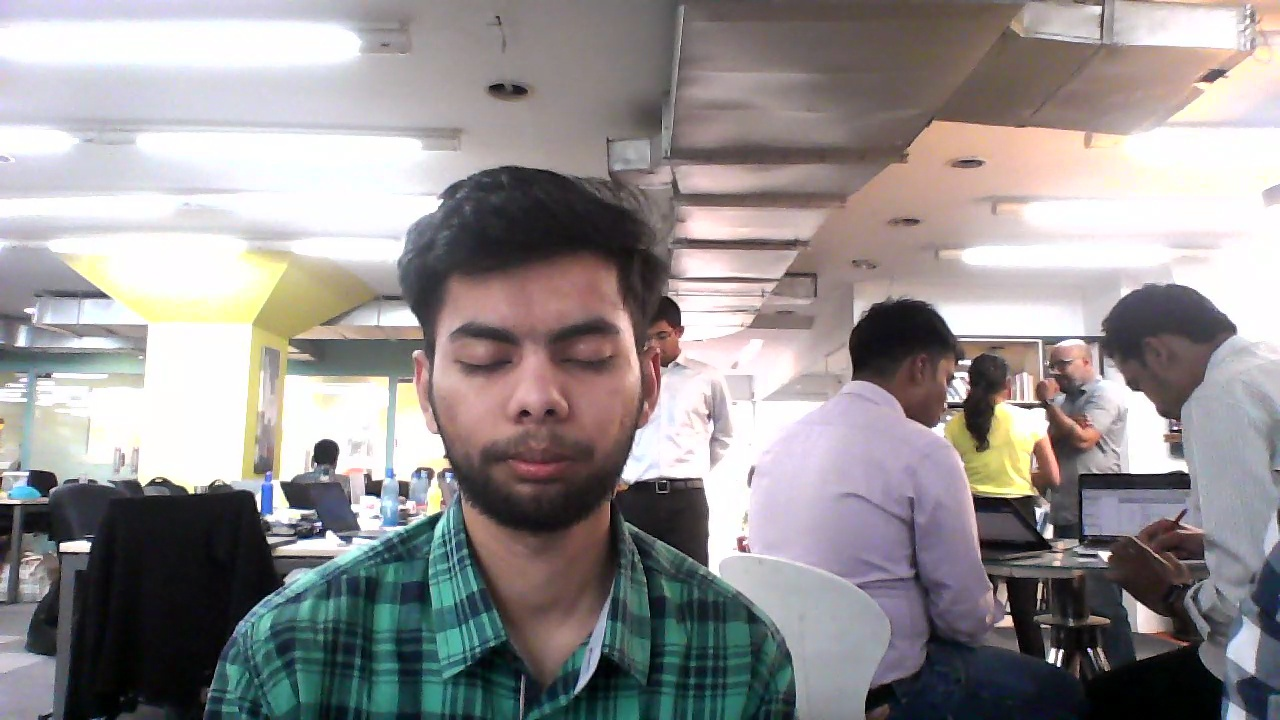closed: (404, 180, 666, 540)
